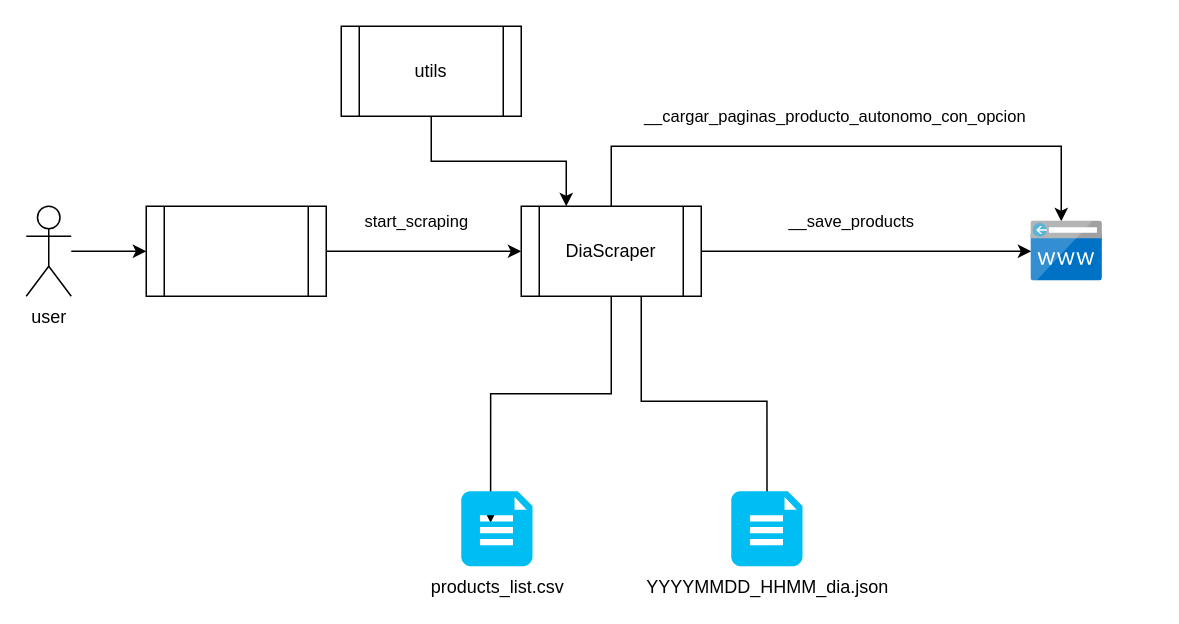
Image size: 1179x624. Some labels were removed from this diagram. The centre of each missing label's shape, as x and y in pixels:
DIA.es/compra-online: point (1066, 250)
main: point (235, 250)
